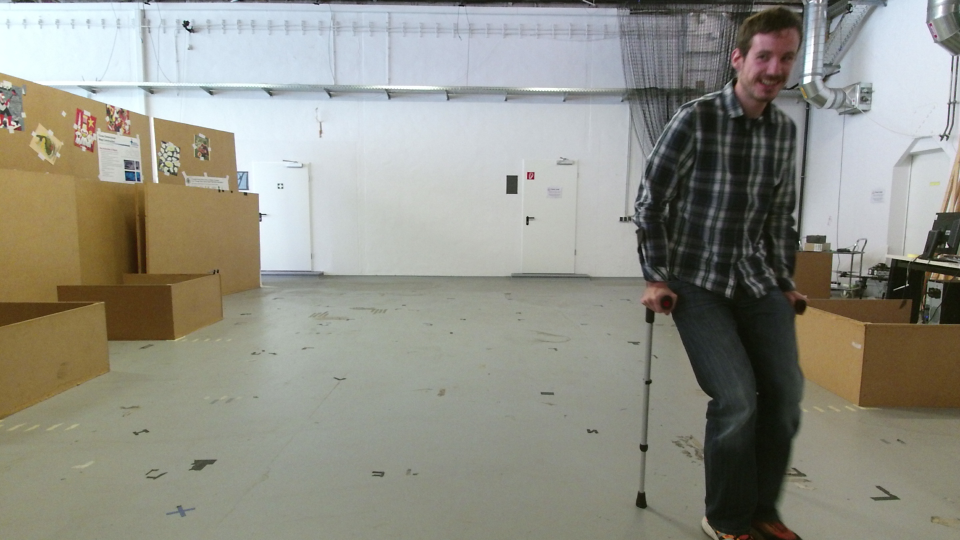crutches: (623, 1, 834, 540)
